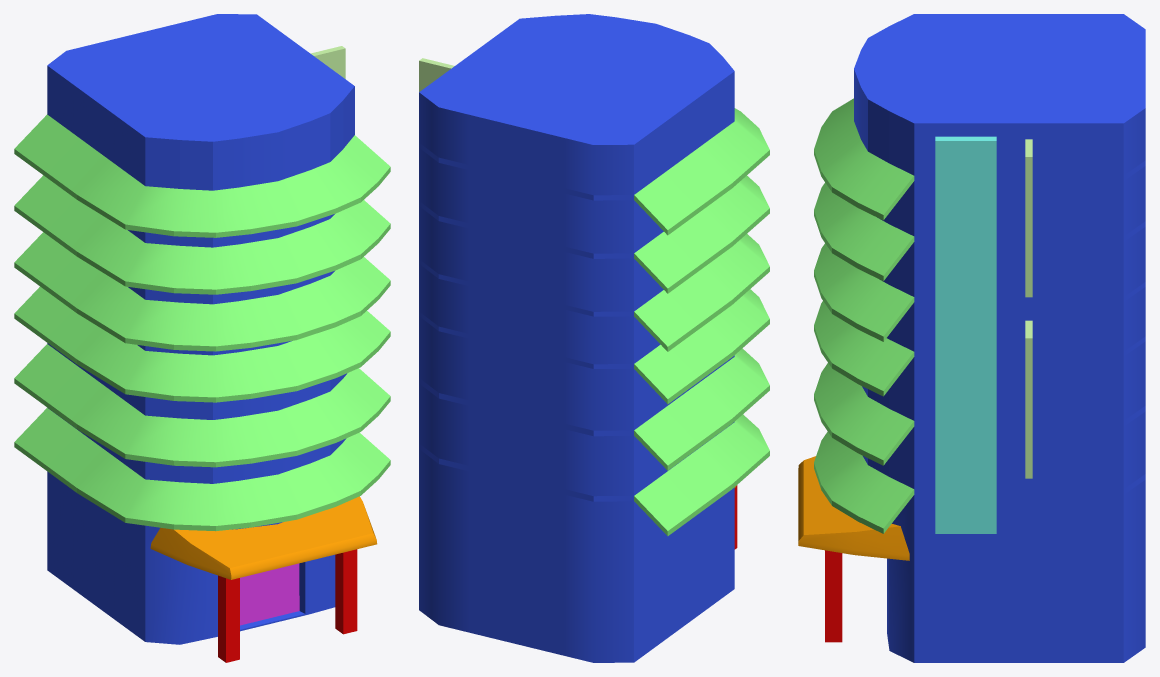
The model's file is End_Building.fbx.
3 views of the same model, side by side, from view 1: azimuth 30°, elevation 25°; view 2: azimuth 150°, elevation 25°; view 3: azimuth 270°, elevation 25° (orthographic). The views are drawn at different scales.
Parts seen in each view (by area): view 1: END_BUILDING7; view 2: END_BUILDING7; view 3: END_BUILDING7.
Part boxes in pixels (left/top/right/bottom): END_BUILDING7: left=14, top=14, right=390, bottom=662; END_BUILDING7: left=419, top=14, right=769, bottom=662; END_BUILDING7: left=798, top=14, right=1145, bottom=662.
Bounding box in the file's own units: 13.02 × 22.03 × 12.85.
